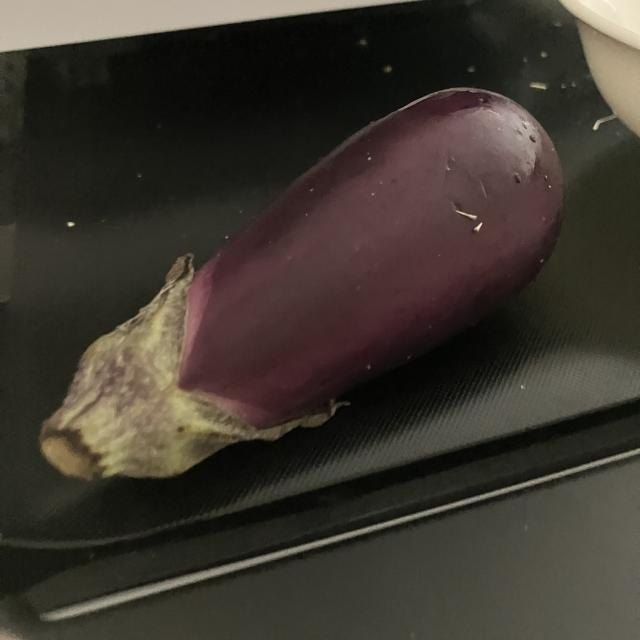eggplant: (35, 86, 571, 484)
